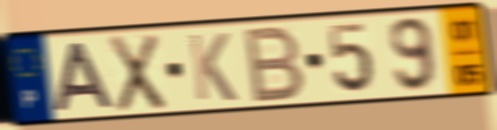5: (326, 20, 377, 96)
9: (387, 15, 440, 94)
A: (52, 40, 118, 114)
B: (243, 22, 309, 105)
K: (185, 31, 239, 104)
X: (107, 31, 168, 115)
